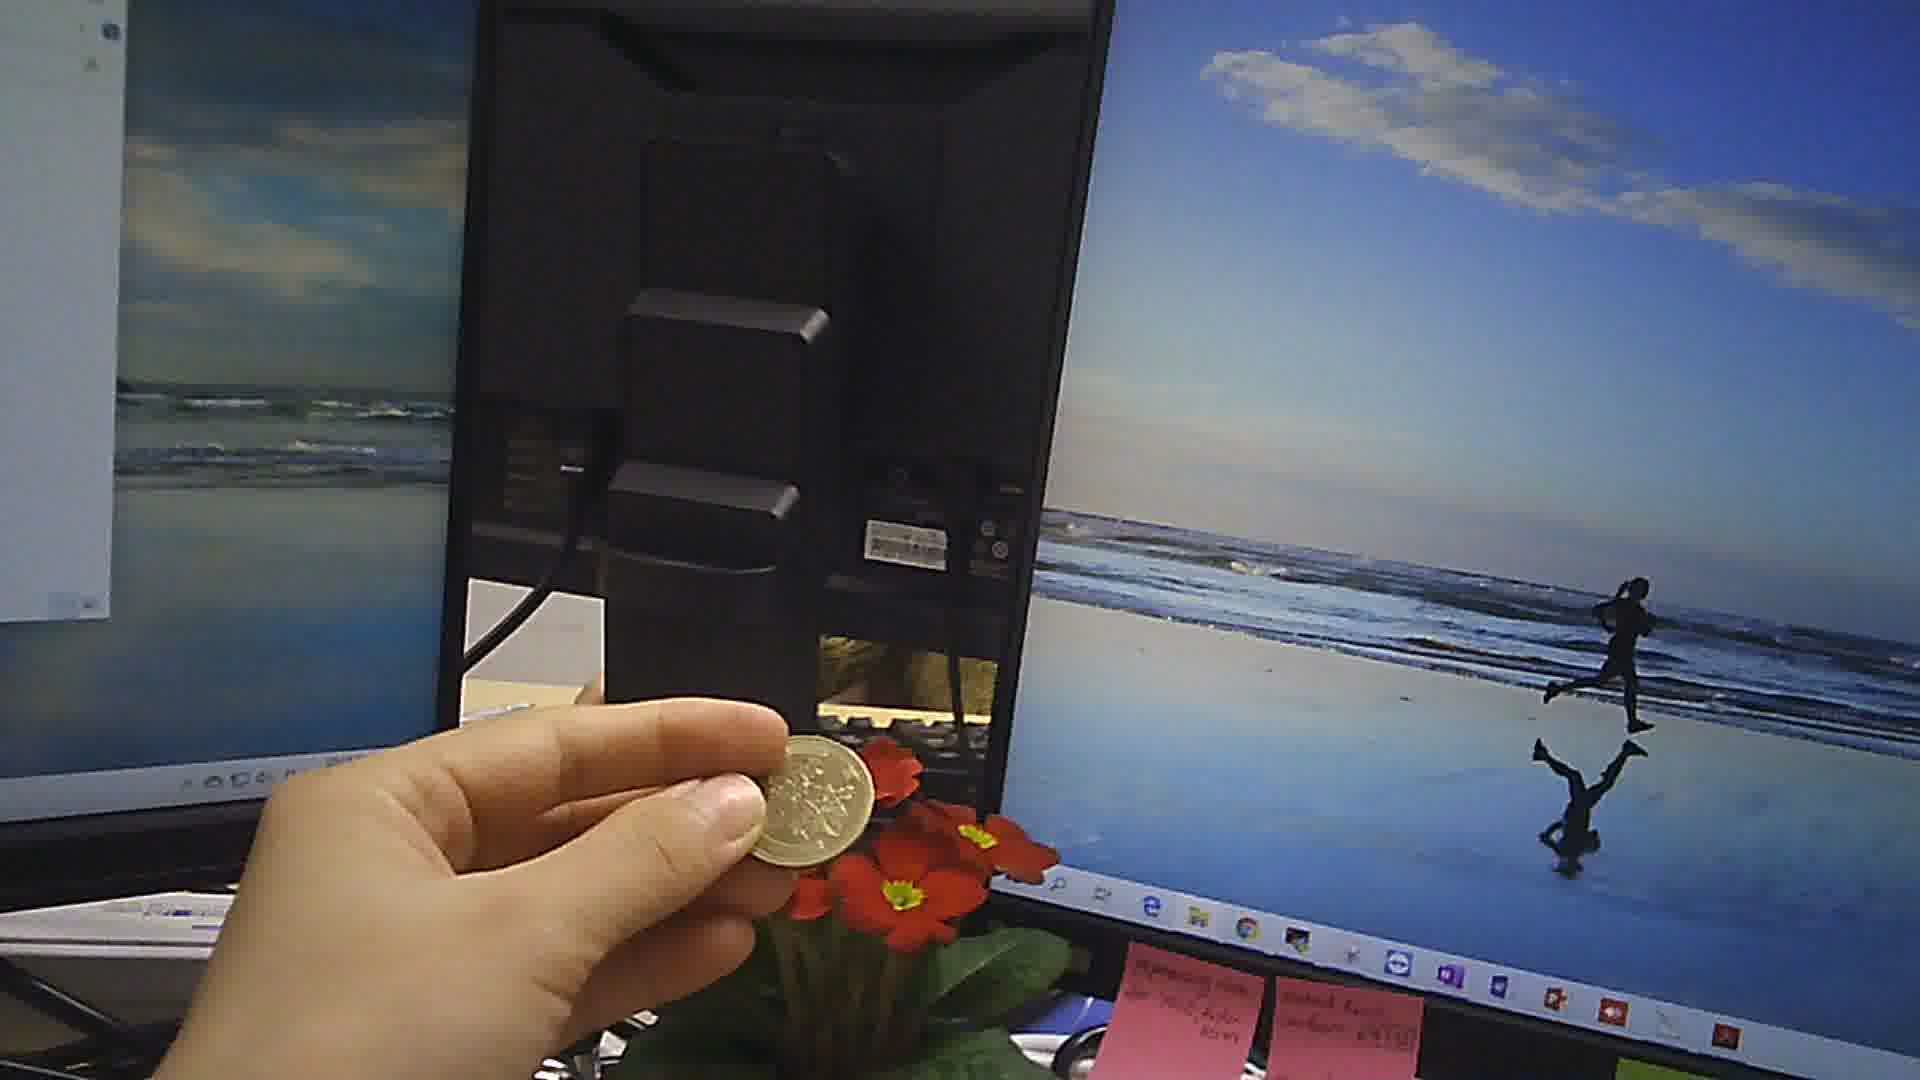500 Yen: (712, 727, 886, 866)
